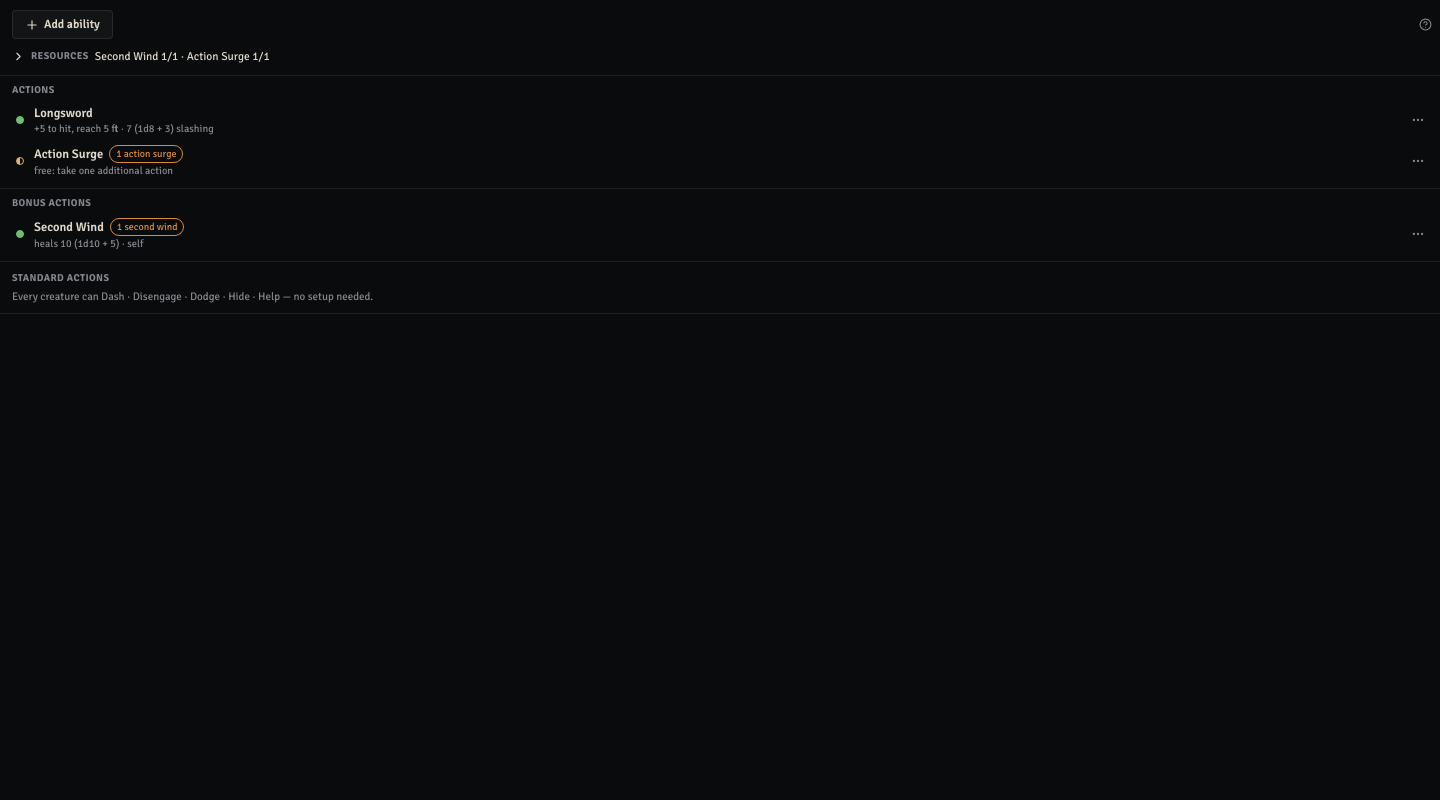
it: items on the Abilities tab › adds a library potion with its + and lists it under Items with how many the token has
Click the button "Add ability" at (62, 24), box left=12, top=10, right=113, bottom=39
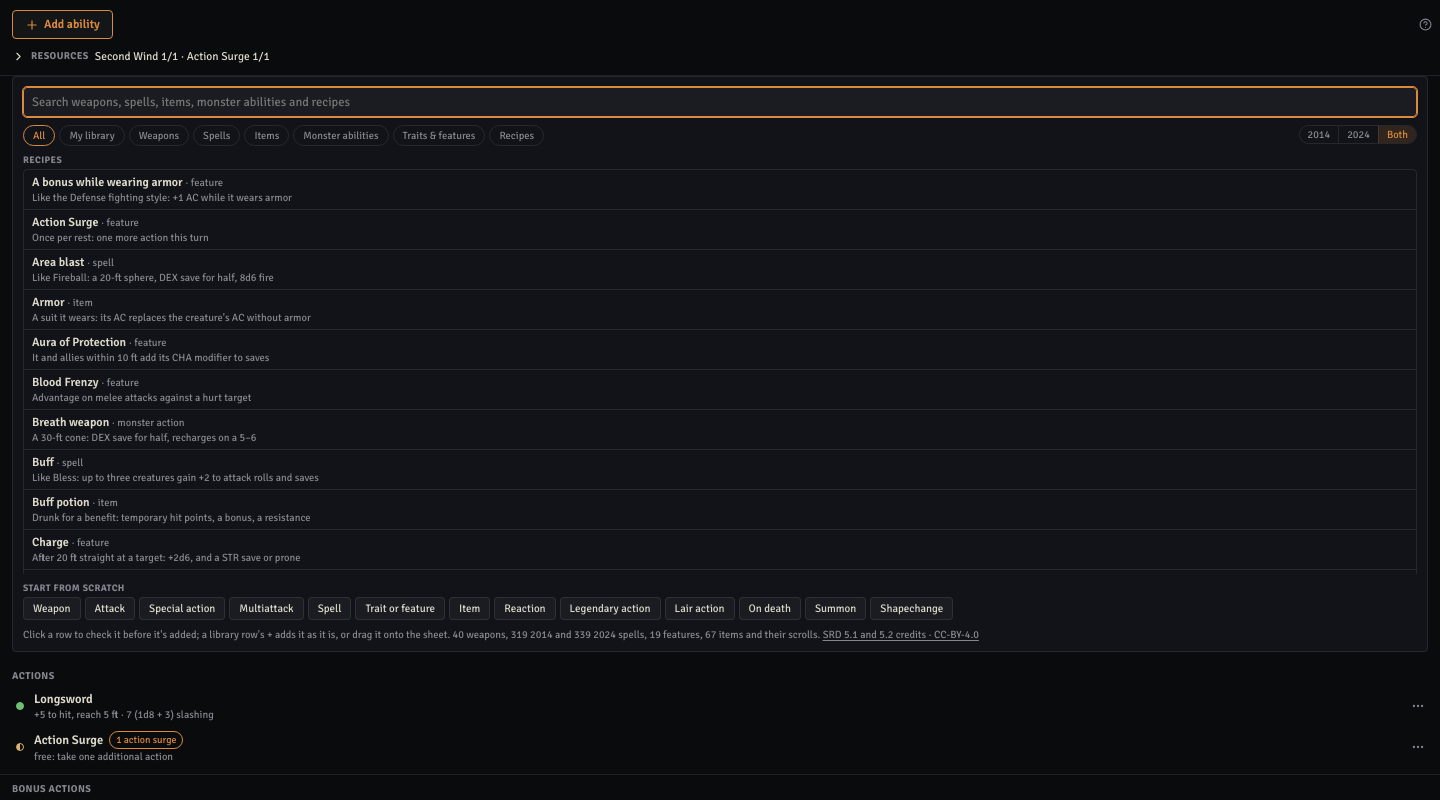
Type "potion of healing" into the search field named "Search abilities" at (720, 102), box left=23, top=87, right=1417, bottom=117
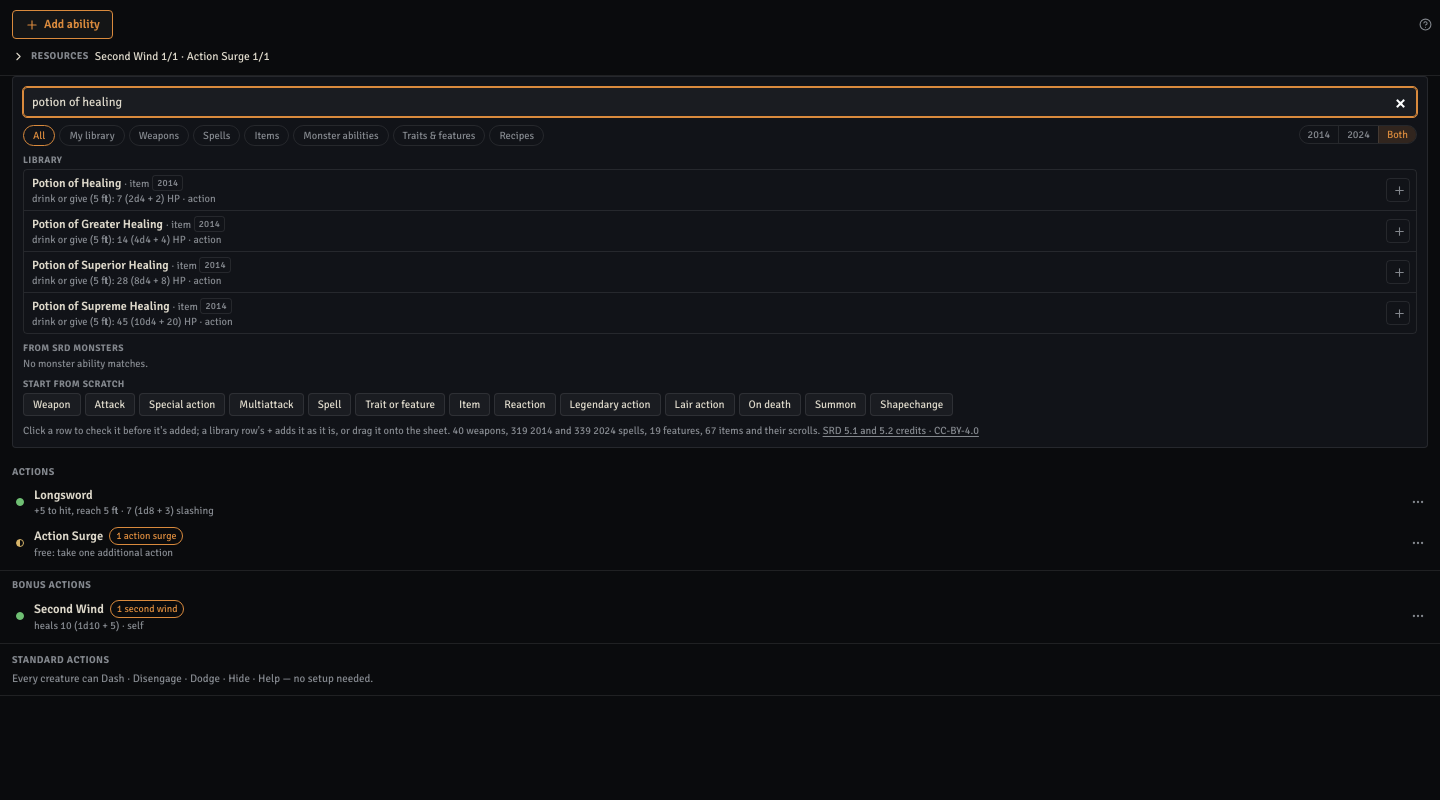
Click the button named "Add Potion of Healing" at (1398, 190), box left=1386, top=178, right=1410, bottom=202
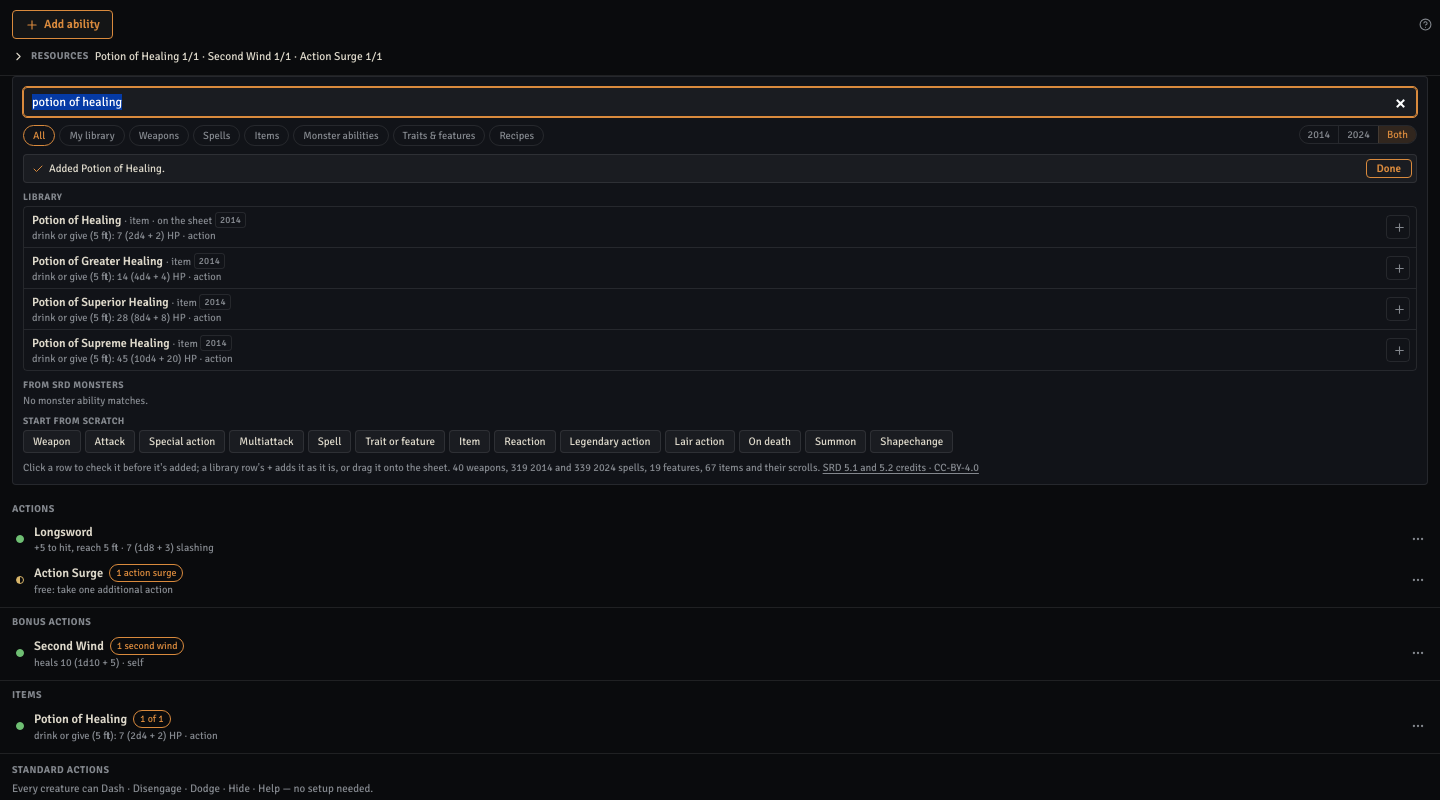
expect the element named "Edit Potion of Healing" shows "1 of 1": met, box left=30, top=705, right=1398, bottom=747
expect the element named "Edit Potion of Healing" shows "drink or give (5 ft): 7 (2d4 + 2) HP · action": met, box left=30, top=705, right=1398, bottom=747
